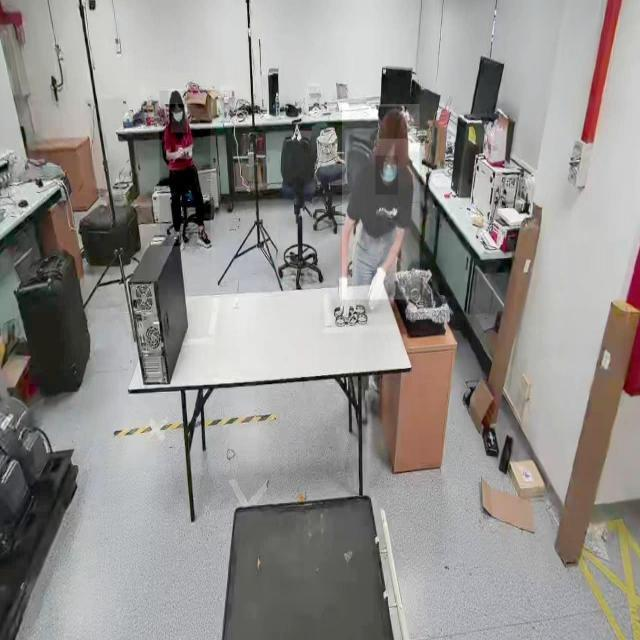boots: (193, 219, 213, 249)
